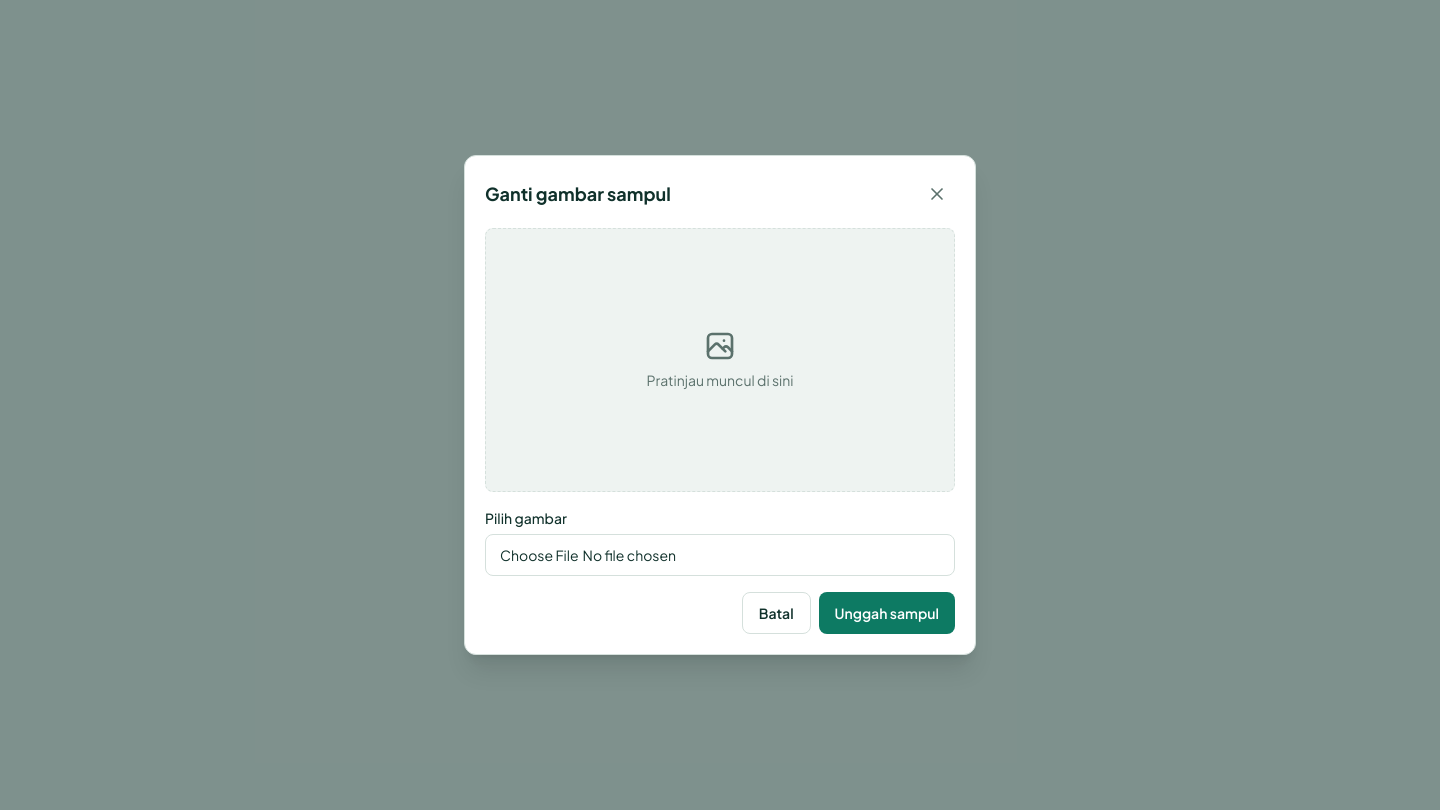
Test case: ChangeCoverModal › meminta gambar dipilih sebelum mengunggah
Click the button "Unggah sampul": (887, 613) [819,592,955,634]
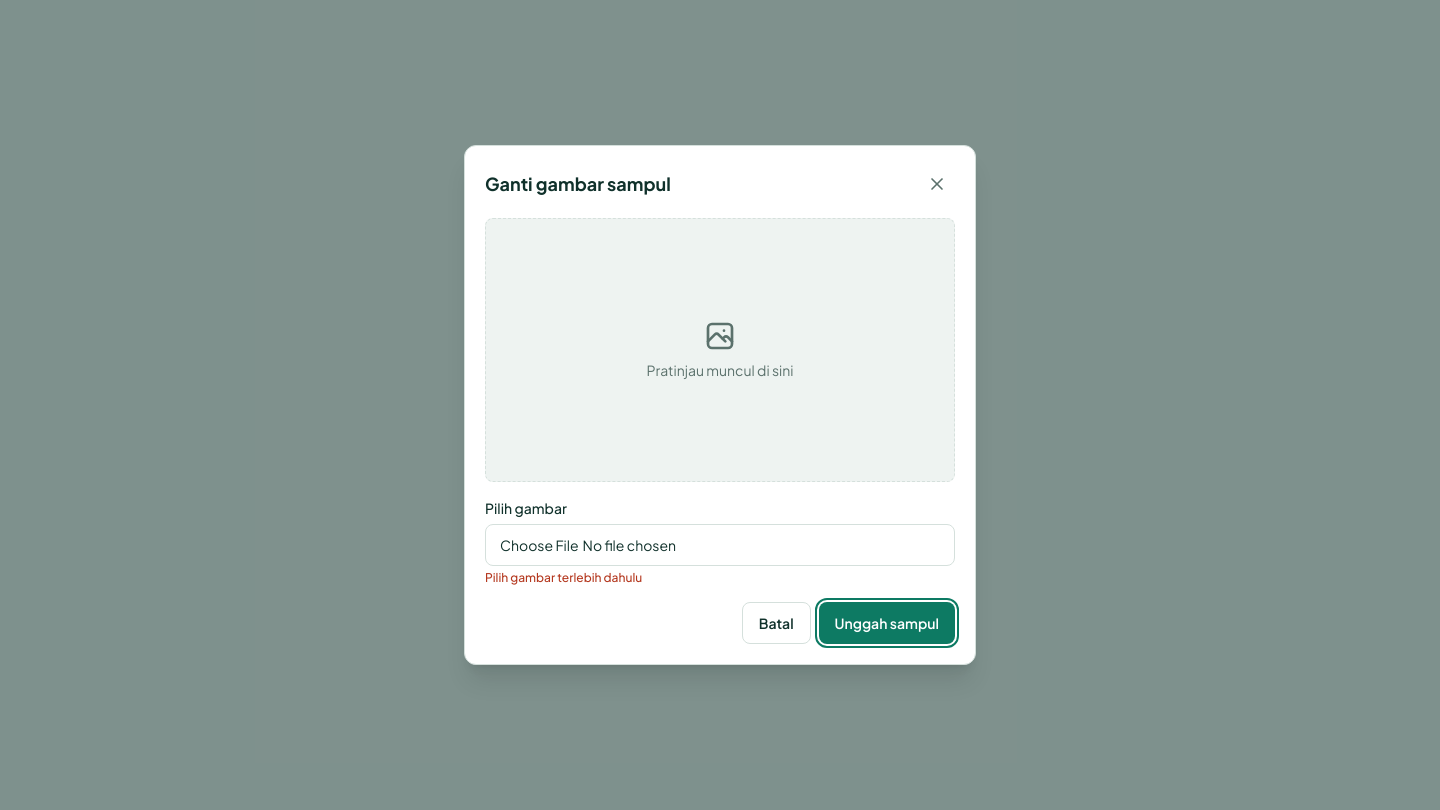
Now the text "Pilih gambar terlebih dahulu" is shown, box [485,570,642,585]
